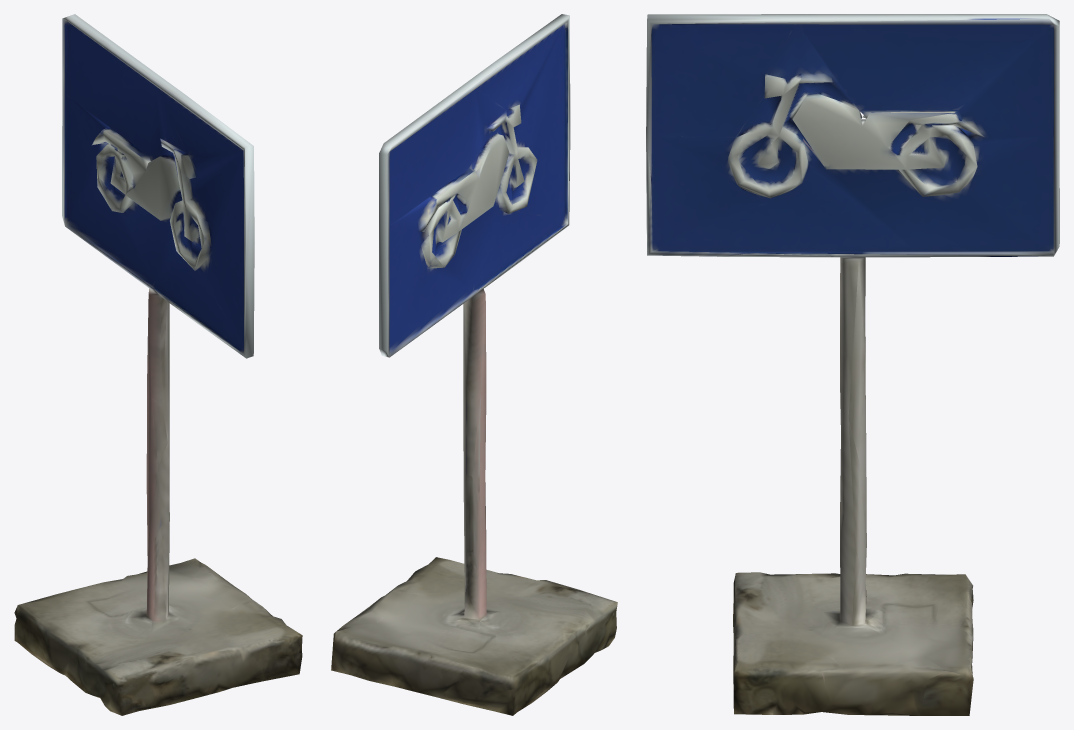
Rendered from rambu_motor.glb.
The picture shows the model from 3 angles, left to right: view 1: azimuth 30°, elevation 25°; view 2: azimuth 150°, elevation 25°; view 3: azimuth 270°, elevation 25°; orthographic projection. The views are drawn at different scales.
Parts seen in each view (by area): view 1: tripo_node_37799e14; view 2: tripo_node_37799e14; view 3: tripo_node_37799e14.
Part boxes in pixels (x1,y1,x2,y2): tripo_node_37799e14: (14, 14, 302, 715); tripo_node_37799e14: (331, 14, 617, 715); tripo_node_37799e14: (646, 14, 1059, 715).
Bounding box in the file's own units: 33.62 × 99.99 × 57.65.
1 material, 1 textured.
